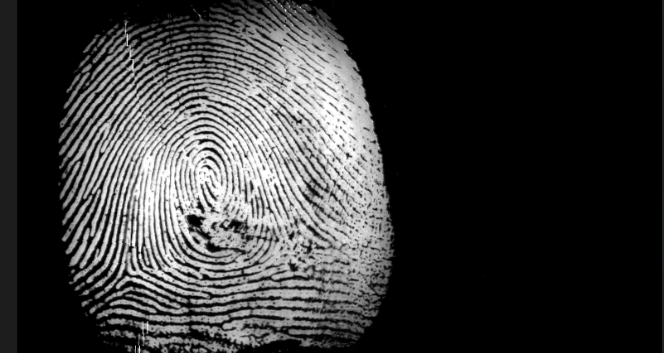deltas: (265, 221, 321, 274), (103, 246, 147, 296)
nucleo: (183, 143, 229, 196)
